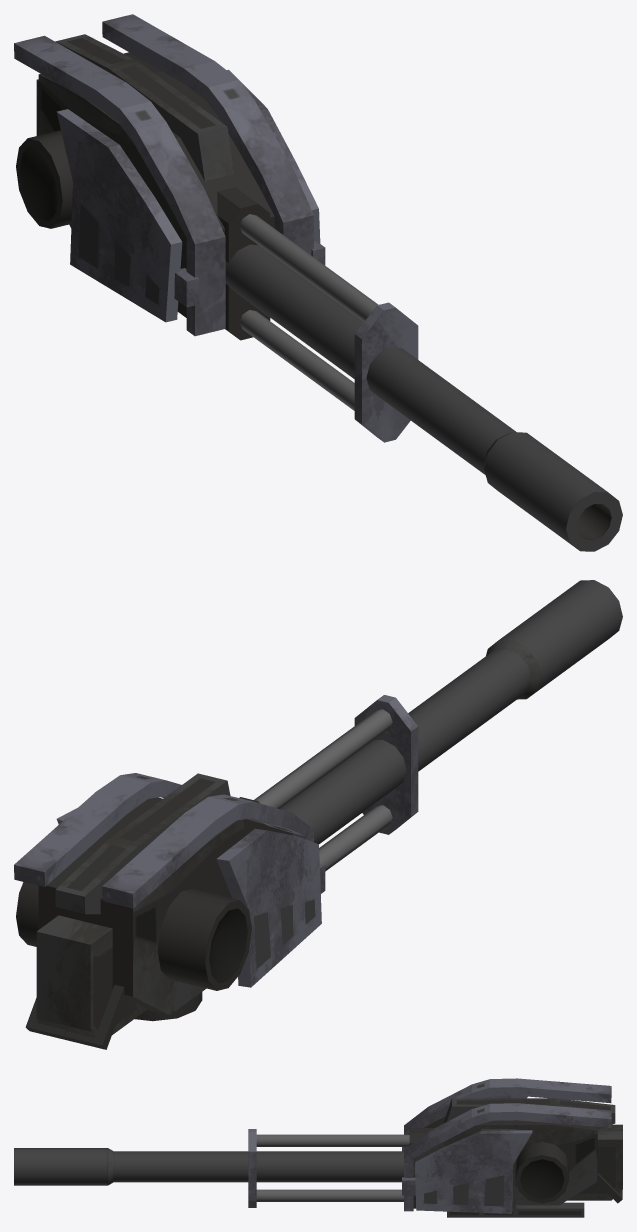
File: Puv.fbx
3 renders of one model, top to bottom at view 1: azimuth 30°, elevation 25°; view 2: azimuth 150°, elevation 25°; view 3: azimuth 270°, elevation 25°, orthographic. The views are drawn at different scales.
Parts seen in each view (by area): view 1: Cube.030; view 2: Cube.030; view 3: Cube.030.
Part boxes in pixels (x1,y1,x2,y2): Cube.030: [14, 14, 622, 551]; Cube.030: [14, 580, 622, 1049]; Cube.030: [14, 1078, 622, 1217].
Bounding box in the file's own units: 101 × 99.15 × 492.
